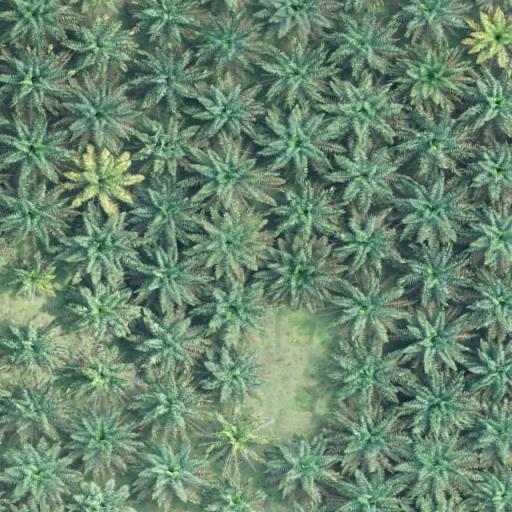Ganoderma: (78, 157, 125, 205), (213, 415, 260, 460), (473, 15, 512, 60)
